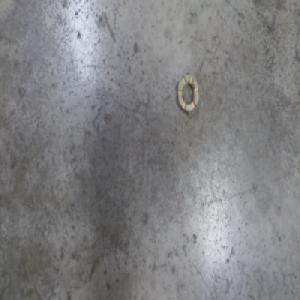Nut: (177, 71, 199, 116)
